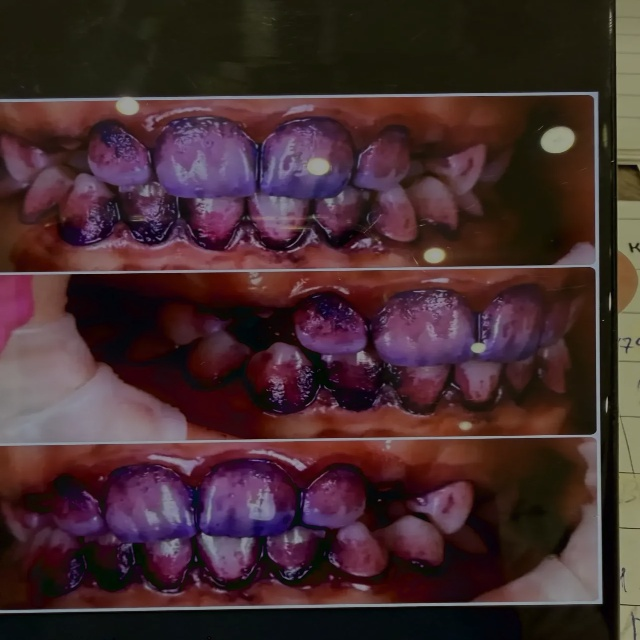clean_tooth: (620, 529, 639, 604), (617, 35, 639, 94), (619, 473, 639, 527), (619, 362, 639, 415), (618, 220, 639, 268), (622, 417, 639, 472), (617, 119, 639, 148)
plaque: (26, 459, 365, 582), (74, 118, 402, 244), (374, 289, 552, 387), (275, 312, 370, 367), (414, 488, 462, 530)
